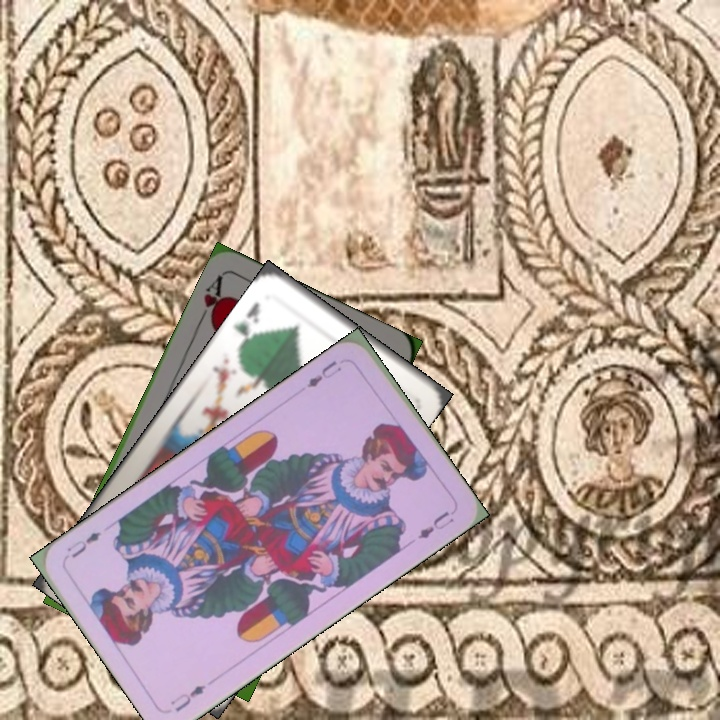EU: (166, 680, 208, 715), (303, 356, 344, 391)
GK: (229, 298, 263, 346)
HA: (194, 270, 228, 328)
